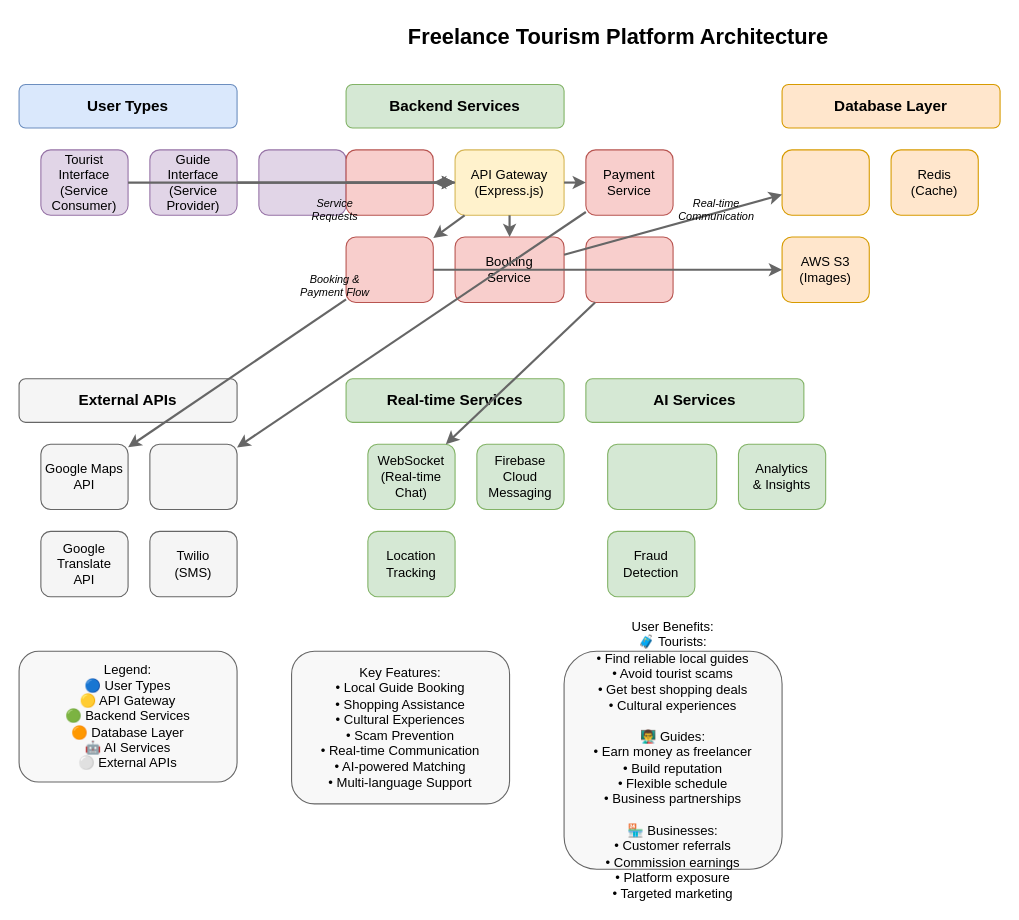
Some shapes in this 1019 by 920 pixel diagram are drawn without their labels. The box of each missing label's shape, as (x1, y1, x2, y2) in pixels:
AI Matching (Smart Recommendations): (607, 443, 717, 510)
Authentication Service: (345, 149, 433, 215)
Business Interface (Partner): (258, 149, 346, 215)
Communication Service: (585, 236, 673, 302)
Guide Service: (345, 236, 433, 302)
PostgreSQL (Main DB): (781, 149, 869, 215)
Stripe (Payments): (149, 443, 237, 510)
